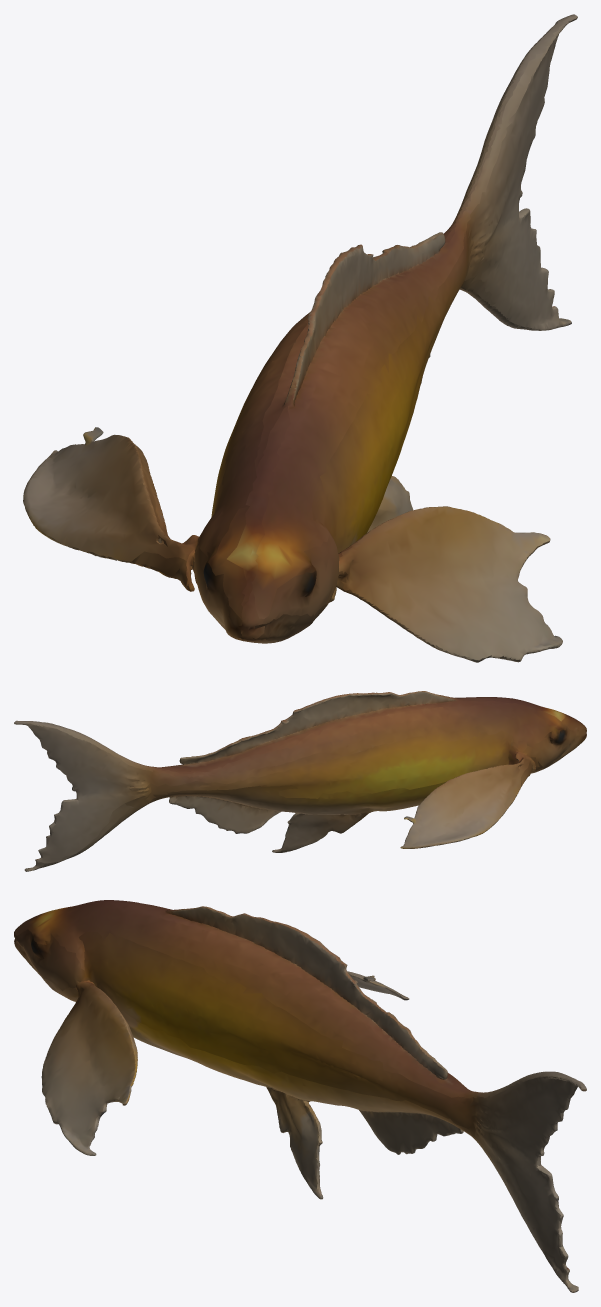
The model's file is fish_hero_g1.glb.
The picture shows the model from 3 angles, top to bottom: view 1: azimuth 30°, elevation 25°; view 2: azimuth 150°, elevation 25°; view 3: azimuth 270°, elevation 25°; orthographic projection. The views are drawn at different scales.
Parts seen in each view (by area): view 1: geometry_0; view 2: geometry_0; view 3: geometry_0.
Part boxes in pixels (x1,y1,x2,y2): geometry_0: (23,14,577,662); geometry_0: (14,691,586,871); geometry_0: (14,900,586,1292).
Bounding box in the file's own units: 1.6 × 0.6829 × 1.54.
